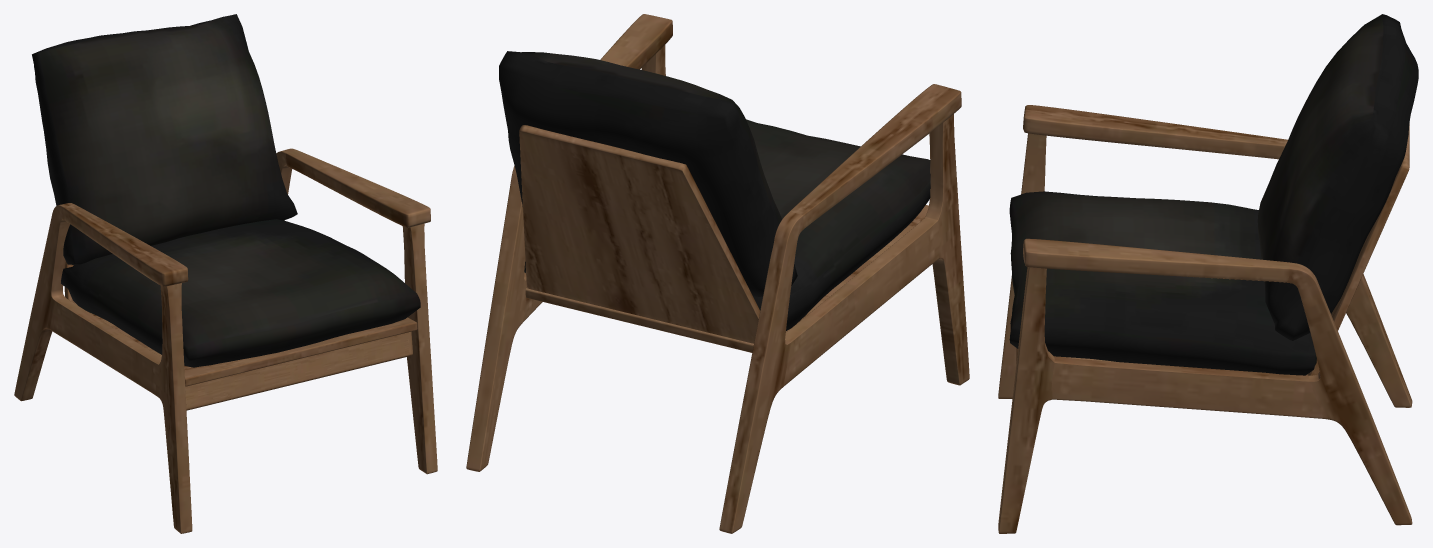
The model's file is modern_arm_chair_01.glb.
3 renders of one model, left to right at view 1: azimuth 30°, elevation 25°; view 2: azimuth 150°, elevation 25°; view 3: azimuth 270°, elevation 25°, orthographic. The views are drawn at different scales.
Visible parts, largest first — view 1: modern_arm_chair_01; view 2: modern_arm_chair_01; view 3: modern_arm_chair_01.
Boxes of the visible parts, x1,y1,x2,y2 form: modern_arm_chair_01: [14, 14, 437, 533]; modern_arm_chair_01: [466, 14, 969, 533]; modern_arm_chair_01: [998, 14, 1418, 533].
Size of the model in its own units: 0.802 by 1 by 0.9645.
2 materials, 2 textured.
